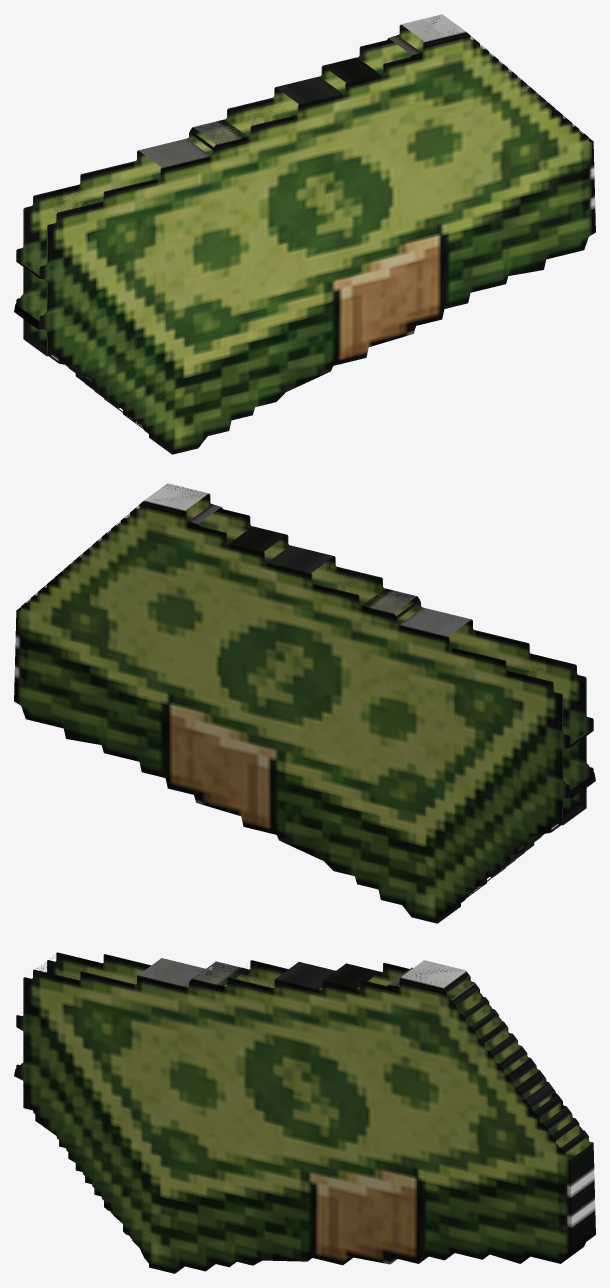
The model's file is money_small.fbx.
3 renders of one model, top to bottom at view 1: azimuth 30°, elevation 25°; view 2: azimuth 150°, elevation 25°; view 3: azimuth 330°, elevation 25°, orthographic.
Visible parts, largest first — view 1: geometry_0; view 2: geometry_0; view 3: geometry_0.
Part boxes in pixels (x1,y1,x2,y2): geometry_0: (14, 14, 595, 454); geometry_0: (14, 483, 595, 923); geometry_0: (14, 952, 595, 1273).
Bounding box in the file's own units: 2.36 × 1.42 × 0.1716.
1 material, 1 textured.
